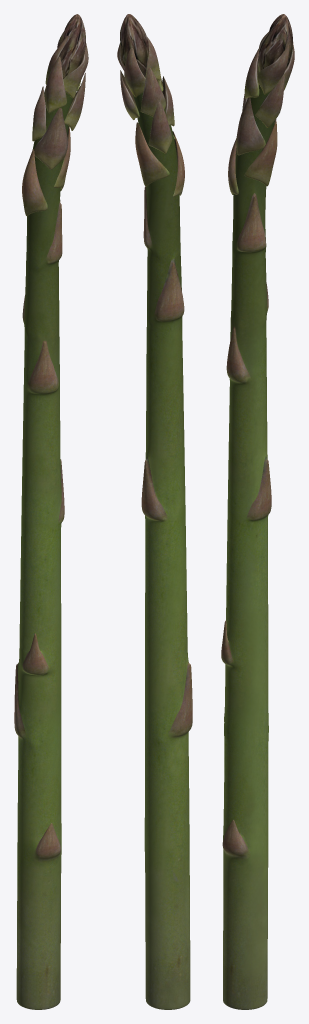
File: asupara.glb
3 renders of one model, left to right at view 1: azimuth 30°, elevation 25°; view 2: azimuth 210°, elevation 25°; view 3: azimuth 330°, elevation 25°, orthographic.
Visible parts, largest first — view 1: 12208_Asparagus_v1_l3; view 2: 12208_Asparagus_v1_l3; view 3: 12208_Asparagus_v1_l3.
Boxes of the visible parts, box(x1,y1,x2,y2) form: 12208_Asparagus_v1_l3: box(14, 14, 88, 1009); 12208_Asparagus_v1_l3: box(117, 14, 192, 1009); 12208_Asparagus_v1_l3: box(221, 14, 294, 1009).
Bounding box in the file's own units: 1.46 × 20.57 × 0.9995.
1 material, 1 textured.
